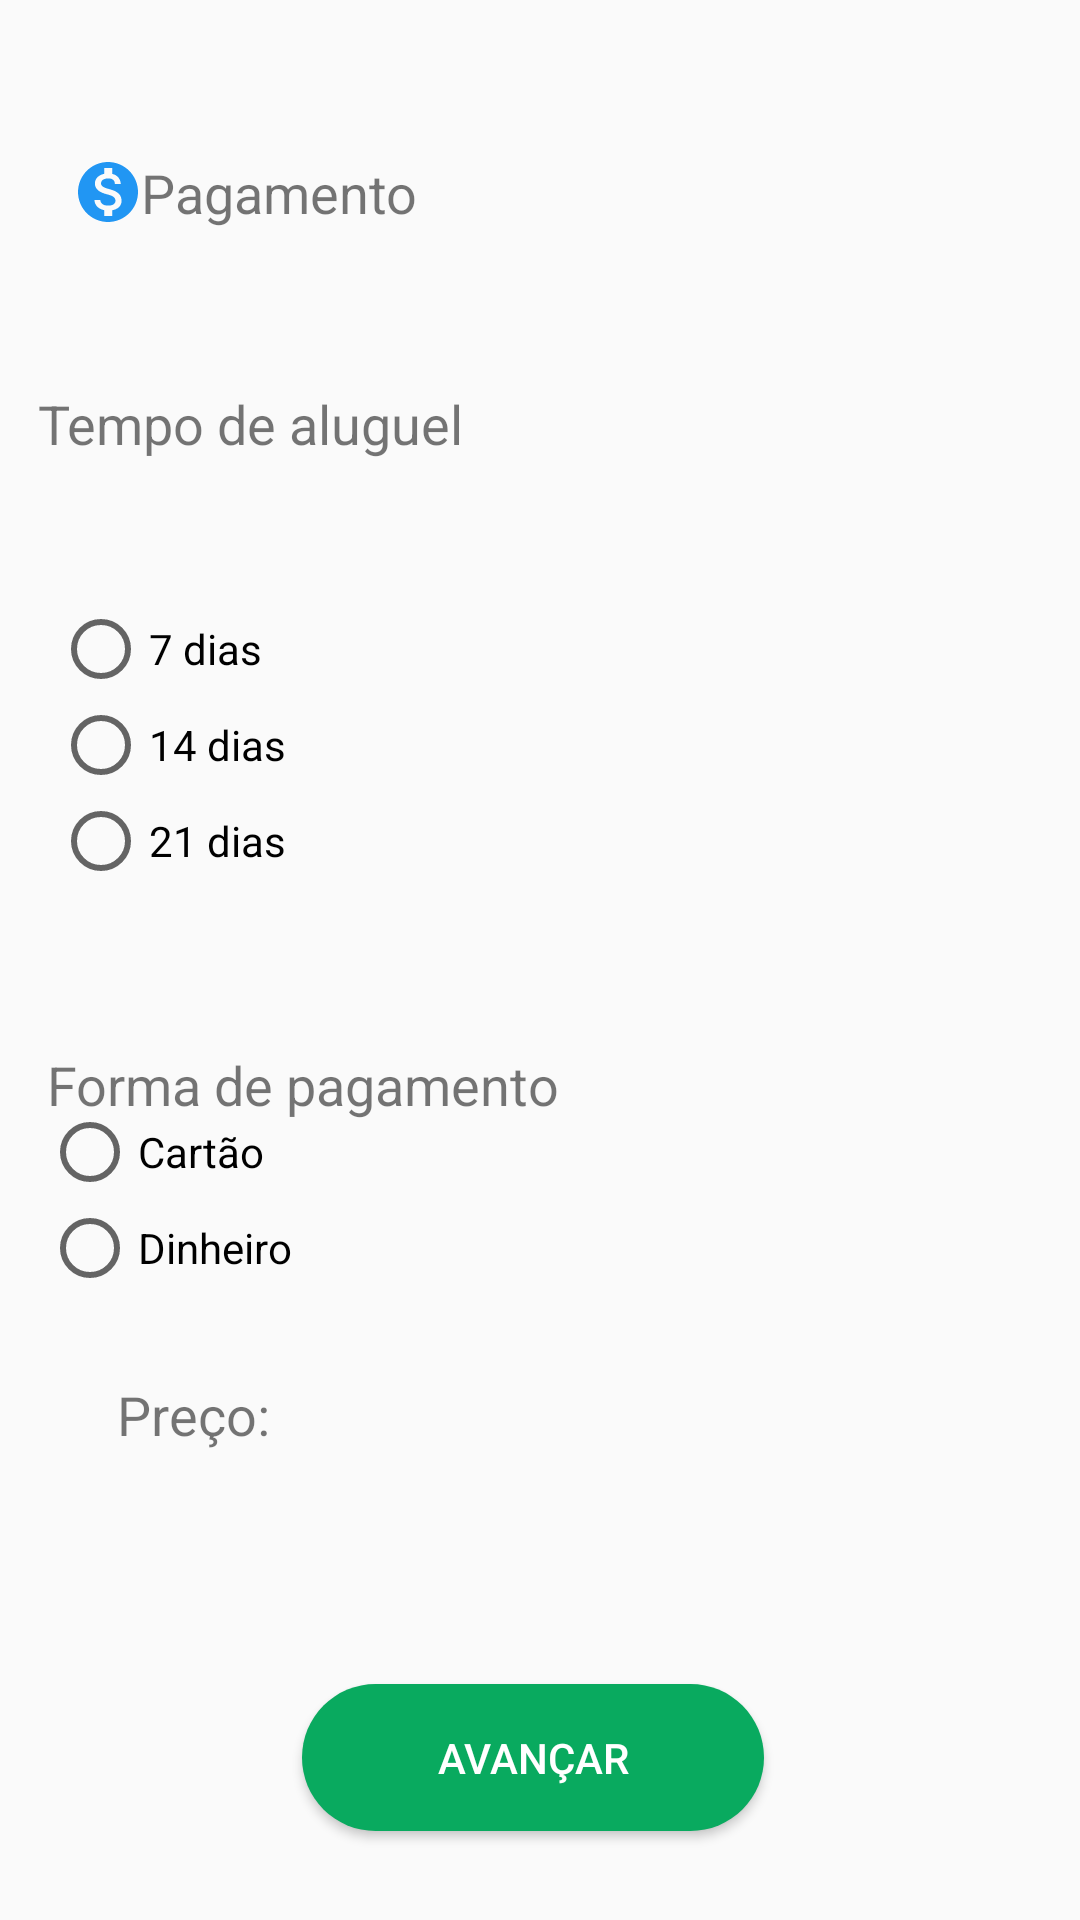

Icons on this 1080px x 1920px Android screen, each with the point to tap as point (x, y):
money: point (108, 192)
